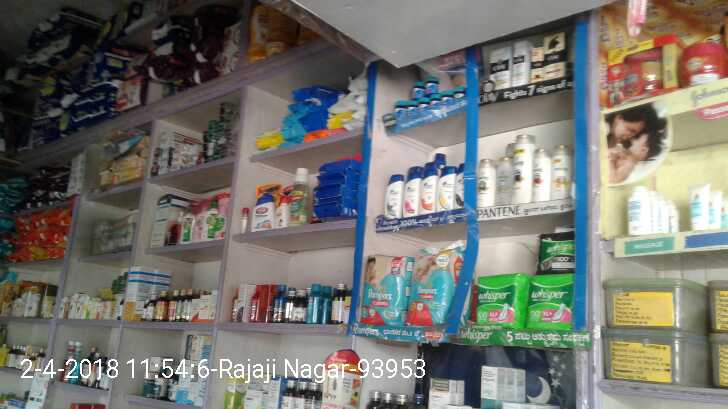vicks: (389, 73, 467, 120)
